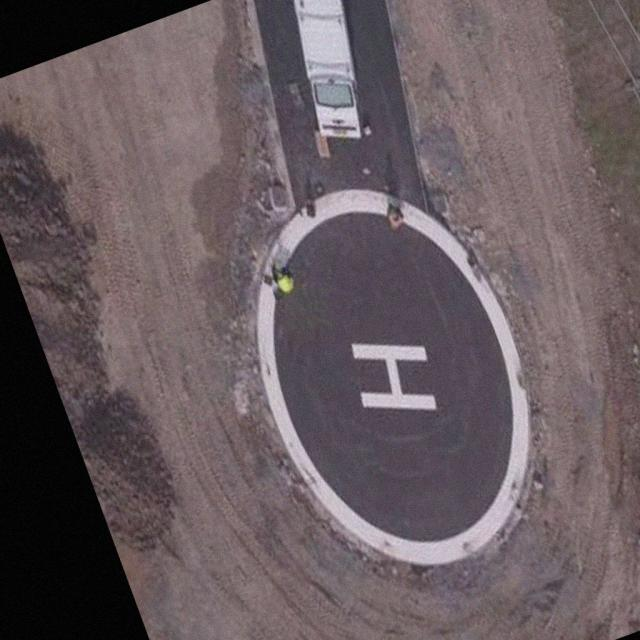helipad: (240, 177, 536, 569)
